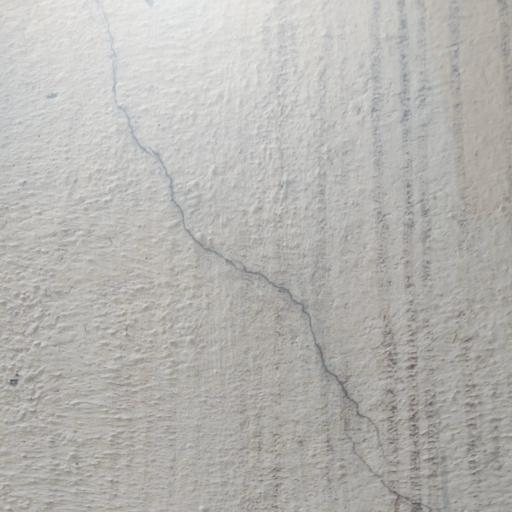minor_crack: (92, 9, 440, 512)
